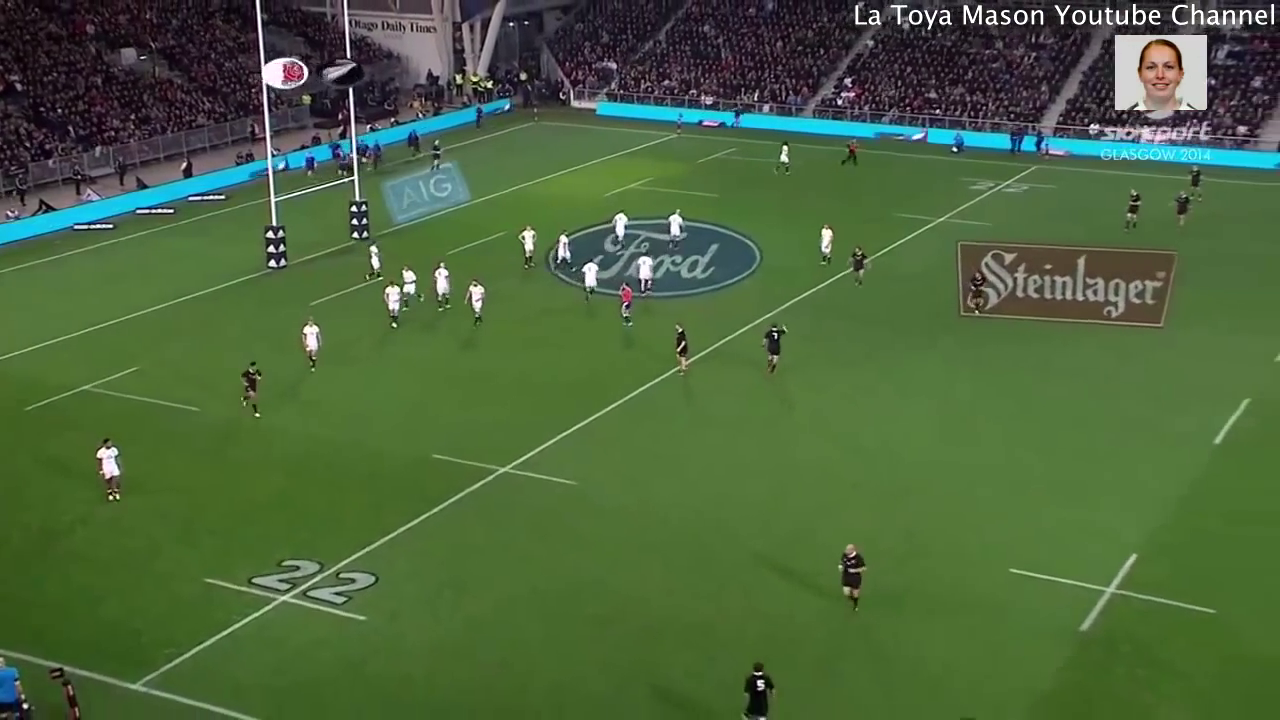10_metre: (1006, 546, 1225, 647)
player: (830, 537, 868, 622), (89, 430, 128, 508), (735, 656, 781, 720), (293, 312, 328, 380), (757, 315, 792, 382), (236, 356, 269, 424), (424, 252, 458, 317), (457, 272, 491, 335), (543, 224, 578, 283), (393, 258, 429, 312), (659, 204, 692, 256), (668, 320, 695, 380), (377, 275, 405, 332), (1117, 184, 1147, 236), (812, 218, 840, 272), (575, 256, 605, 306), (514, 221, 541, 276), (630, 247, 657, 302), (1165, 185, 1194, 236), (610, 278, 639, 327), (608, 204, 633, 256), (361, 236, 388, 284), (965, 264, 987, 319), (770, 137, 796, 181), (843, 243, 868, 287), (836, 136, 864, 173), (1185, 159, 1207, 205)
post: (250, 1, 376, 283)
